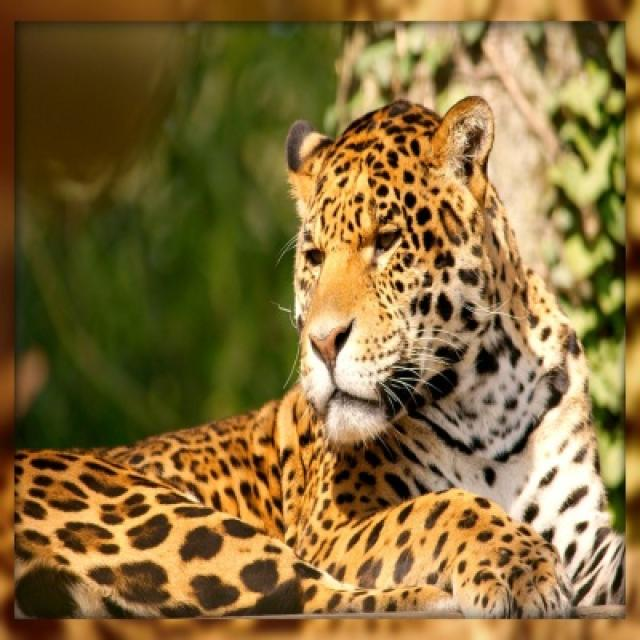Jaguar: (13, 96, 627, 624)
